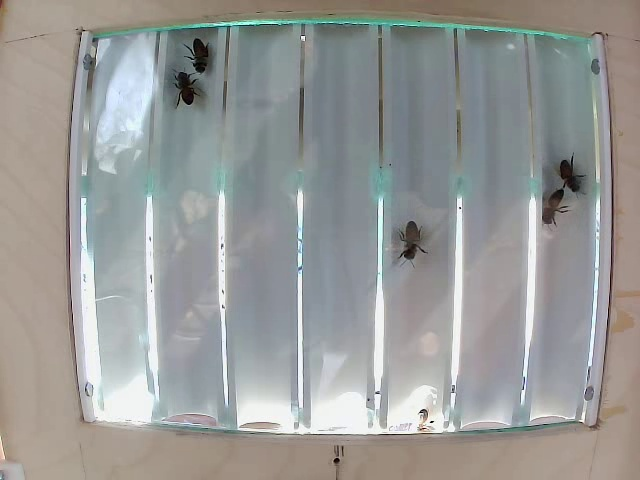bee: (195, 37, 233, 88), (395, 230, 429, 271), (536, 177, 564, 222), (557, 152, 585, 196), (170, 76, 208, 108)
